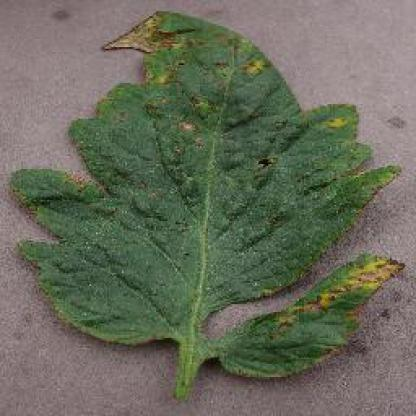bad leaf: (55, 16, 402, 412)
